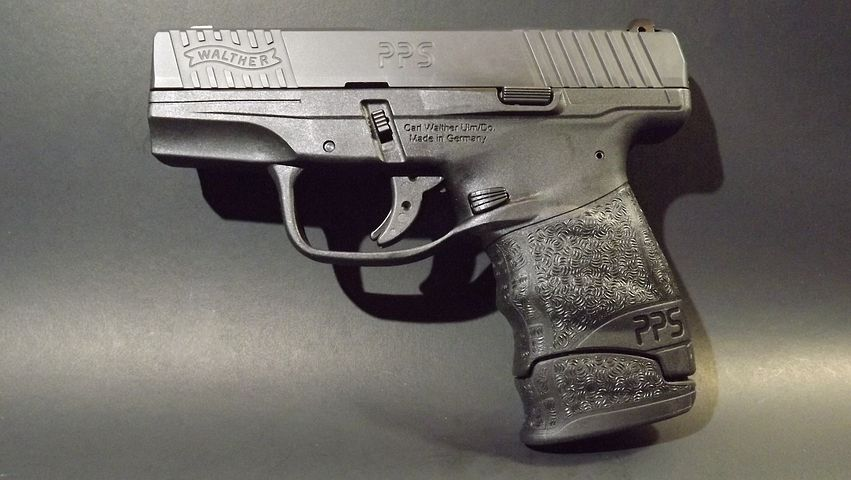gun: (142, 16, 721, 461)
